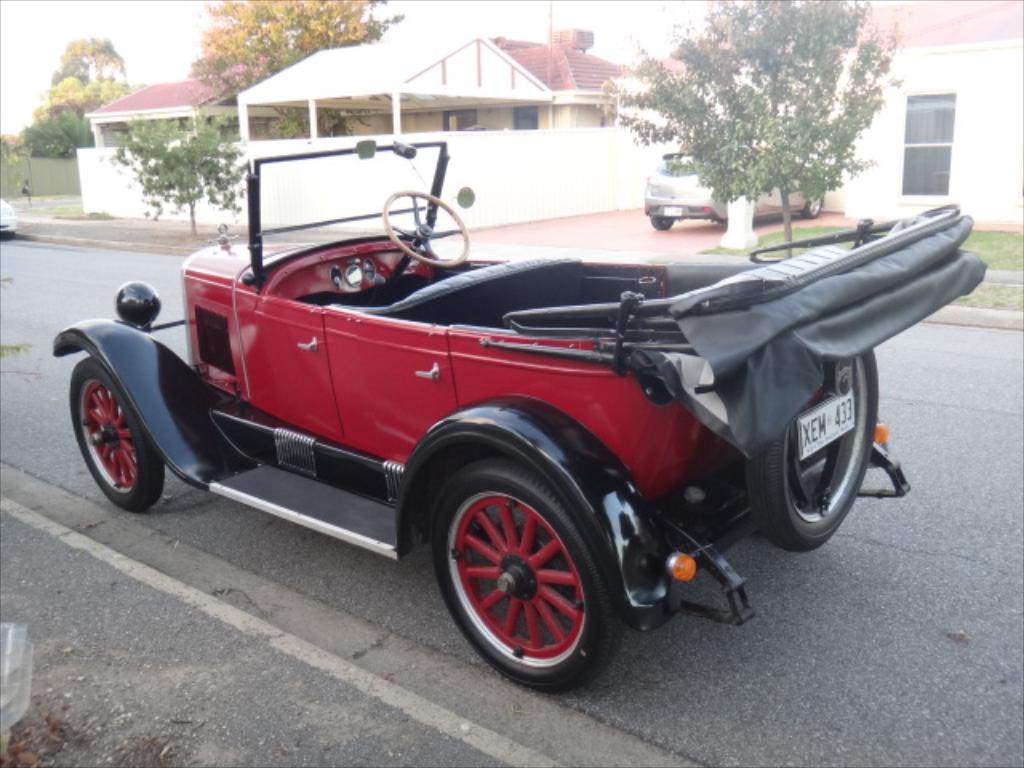Tree: (593, 17, 937, 212), (107, 100, 270, 233), (180, 0, 395, 89), (11, 32, 135, 153)
